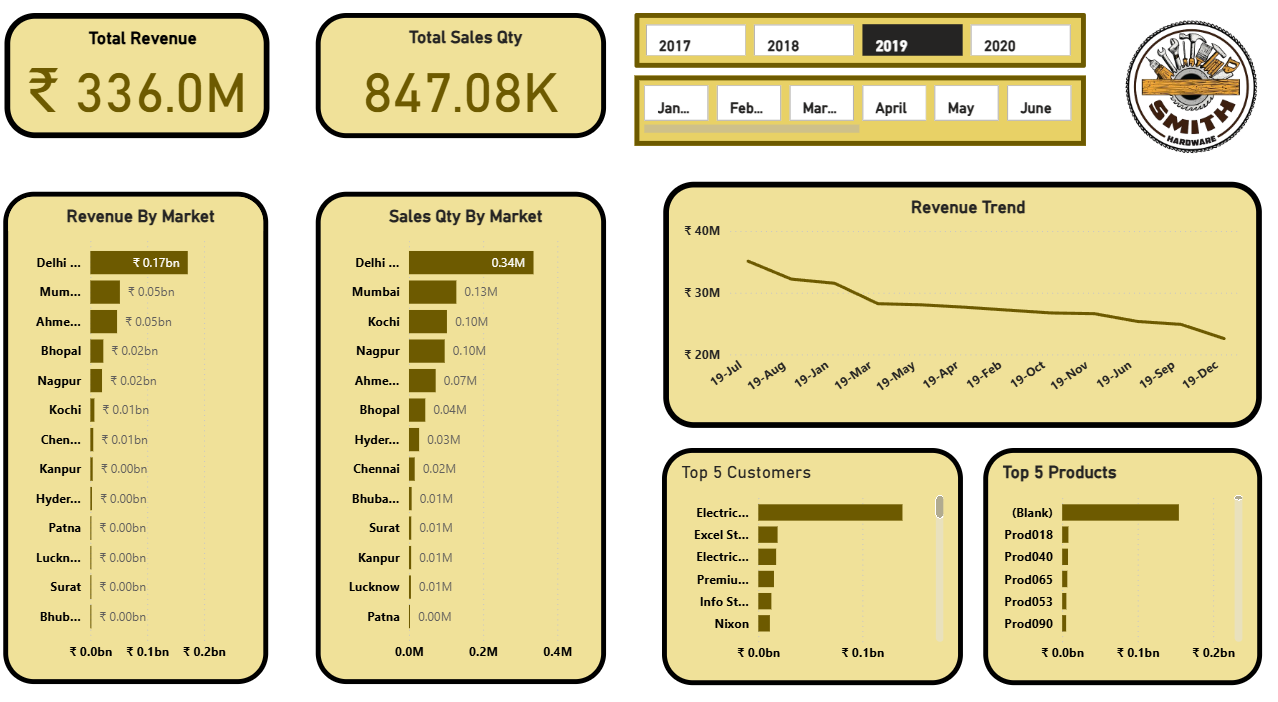

This screenshot's page, from the dashboard's own definition file:
{"tool":"powerbi","page":{"name":"Key Insights","canvas":[1280,720],"ordinal":0},"visuals":[{"type":"image","box":[1076.1,0,204.2,184.6],"z":0},{"type":"card","title":"Total Revenue","fields":{"Values":["Sum(sales transactions.sales_amount)"]},"box":[17.1,19.6,259.2,122.3],"z":1000},{"type":"card","title":"Total Sales Qty","fields":{"Values":["Sum(sales transactions.sales_qty)"]},"box":[321.6,19.6,283.7,122.3],"z":2000},{"type":"advancedSlicerVisual","fields":{"Values":["sales date.cy_date.Variation.Date Hierarchy.Year"]},"box":[634,19.2,441.9,53.5],"z":3000},{"type":"advancedSlicerVisual","fields":{"Values":["sales date.cy_date.Variation.Date Hierarchy.Month"]},"box":[634,81,441.9,68.6],"z":4000},{"type":"clusteredBarChart","title":"Revenue By Market","fields":{"Category":["sales markets.markets_name"],"Y":["Sum(sales transactions.sales_amount)"]},"box":[16.5,194.9,259.3,481.6],"z":5000},{"type":"clusteredBarChart","title":"Sales Qty By Market","fields":{"Category":["sales markets.markets_name"],"Y":["Sum(sales transactions.sales_qty)"]},"box":[321.1,194.9,284,481.6],"z":6000},{"type":"clusteredBarChart","title":"Top 5 Customers","fields":{"Category":["sales customers.custmer_name"],"Y":["Sum(sales transactions.sales_amount)"]},"box":[660.3,445.1,294.7,232.3],"z":7000},{"type":"clusteredBarChart","title":"Top 5 Products","fields":{"Category":["sales products.product_code"],"Y":["Sum(sales transactions.sales_amount)"]},"box":[974.6,445.1,272.7,232.3],"z":8000},{"type":"lineChart","title":"Revenue Trend","fields":{"Category":["sales date.date_yy_mmm"],"Y":["Sum(sales transactions.sales_amount)"]},"box":[661.6,184.6,585.7,240.9],"z":9000}]}

Visuals, with their boxes in screenshot pixels (x1, y1, x2, y2), scaled from the page's 1280x720 canvas onto the 1278x702 screenshot:
image: (1074, 0, 1277, 180)
"Total Revenue" card: (17, 19, 276, 138)
"Total Sales Qty" card: (321, 19, 604, 138)
advancedSlicerVisual - sales date.cy_date.Variation.Date Hierarchy.Year: (633, 19, 1074, 71)
advancedSlicerVisual - sales date.cy_date.Variation.Date Hierarchy.Month: (633, 79, 1074, 146)
"Revenue By Market" clusteredBarChart: (16, 190, 275, 660)
"Sales Qty By Market" clusteredBarChart: (321, 190, 604, 660)
"Top 5 Customers" clusteredBarChart: (659, 434, 954, 660)
"Top 5 Products" clusteredBarChart: (973, 434, 1245, 660)
"Revenue Trend" lineChart: (661, 180, 1245, 415)
